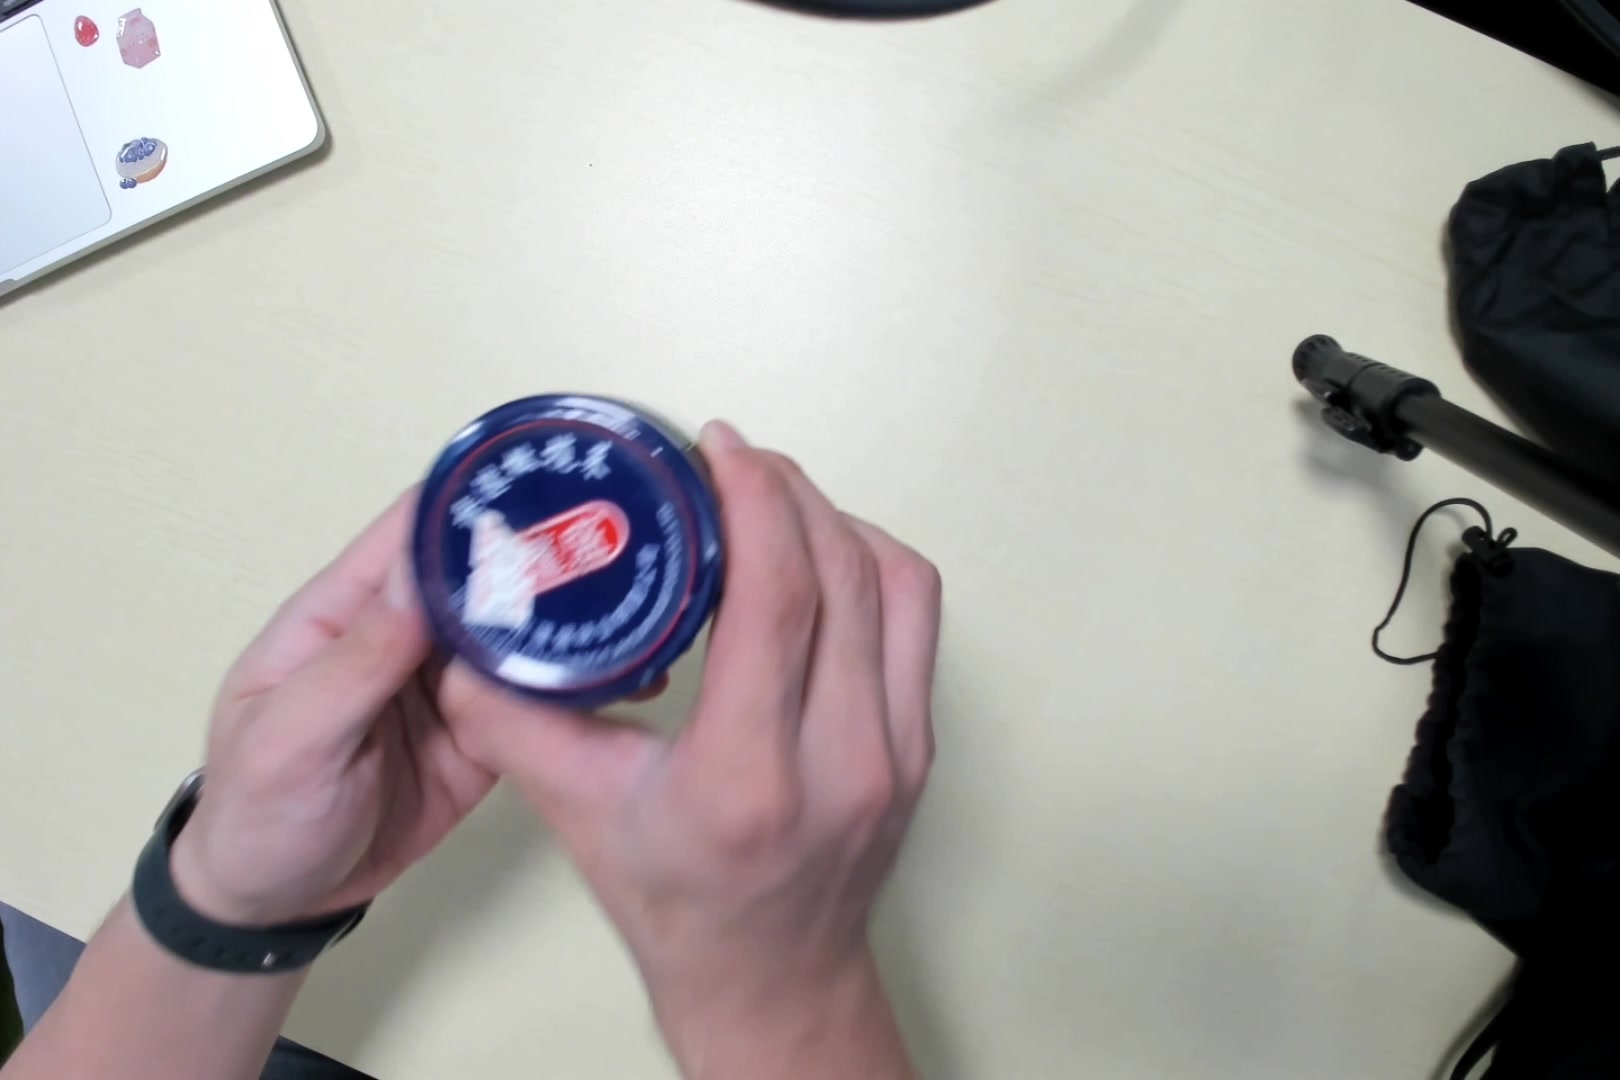OtherCannedVegetables_100-199g_Halal_NonHealthy: (411, 385, 728, 695)
